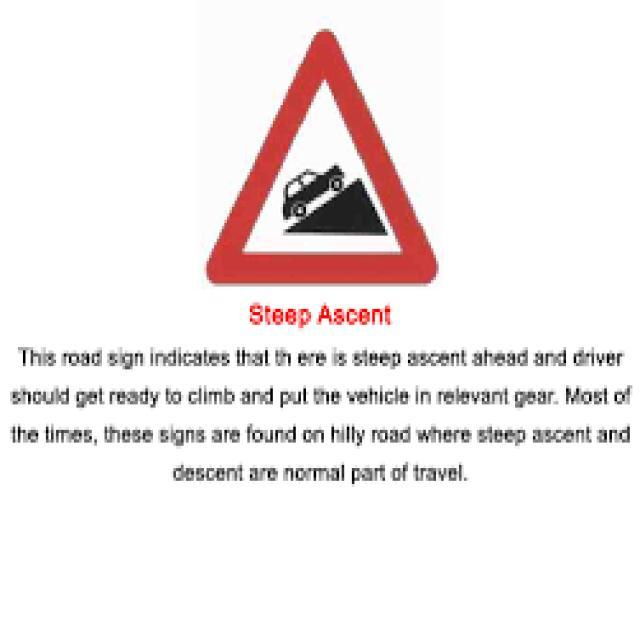steep ascent: (204, 23, 438, 291)
